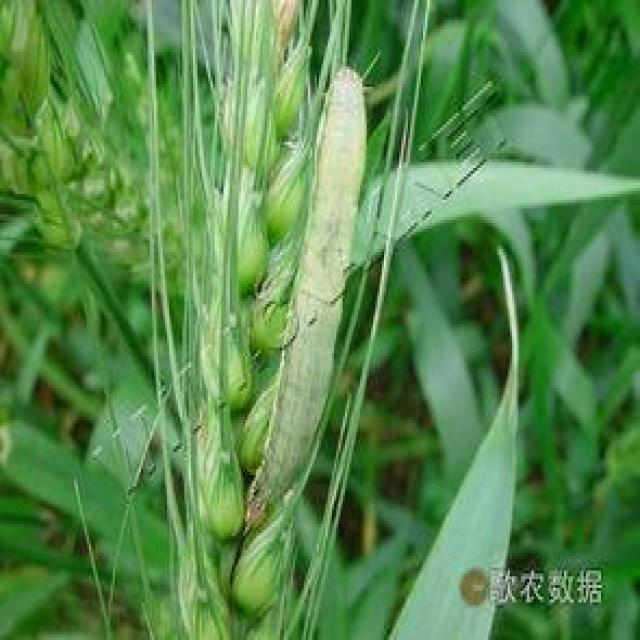army worm: (241, 59, 364, 545)
